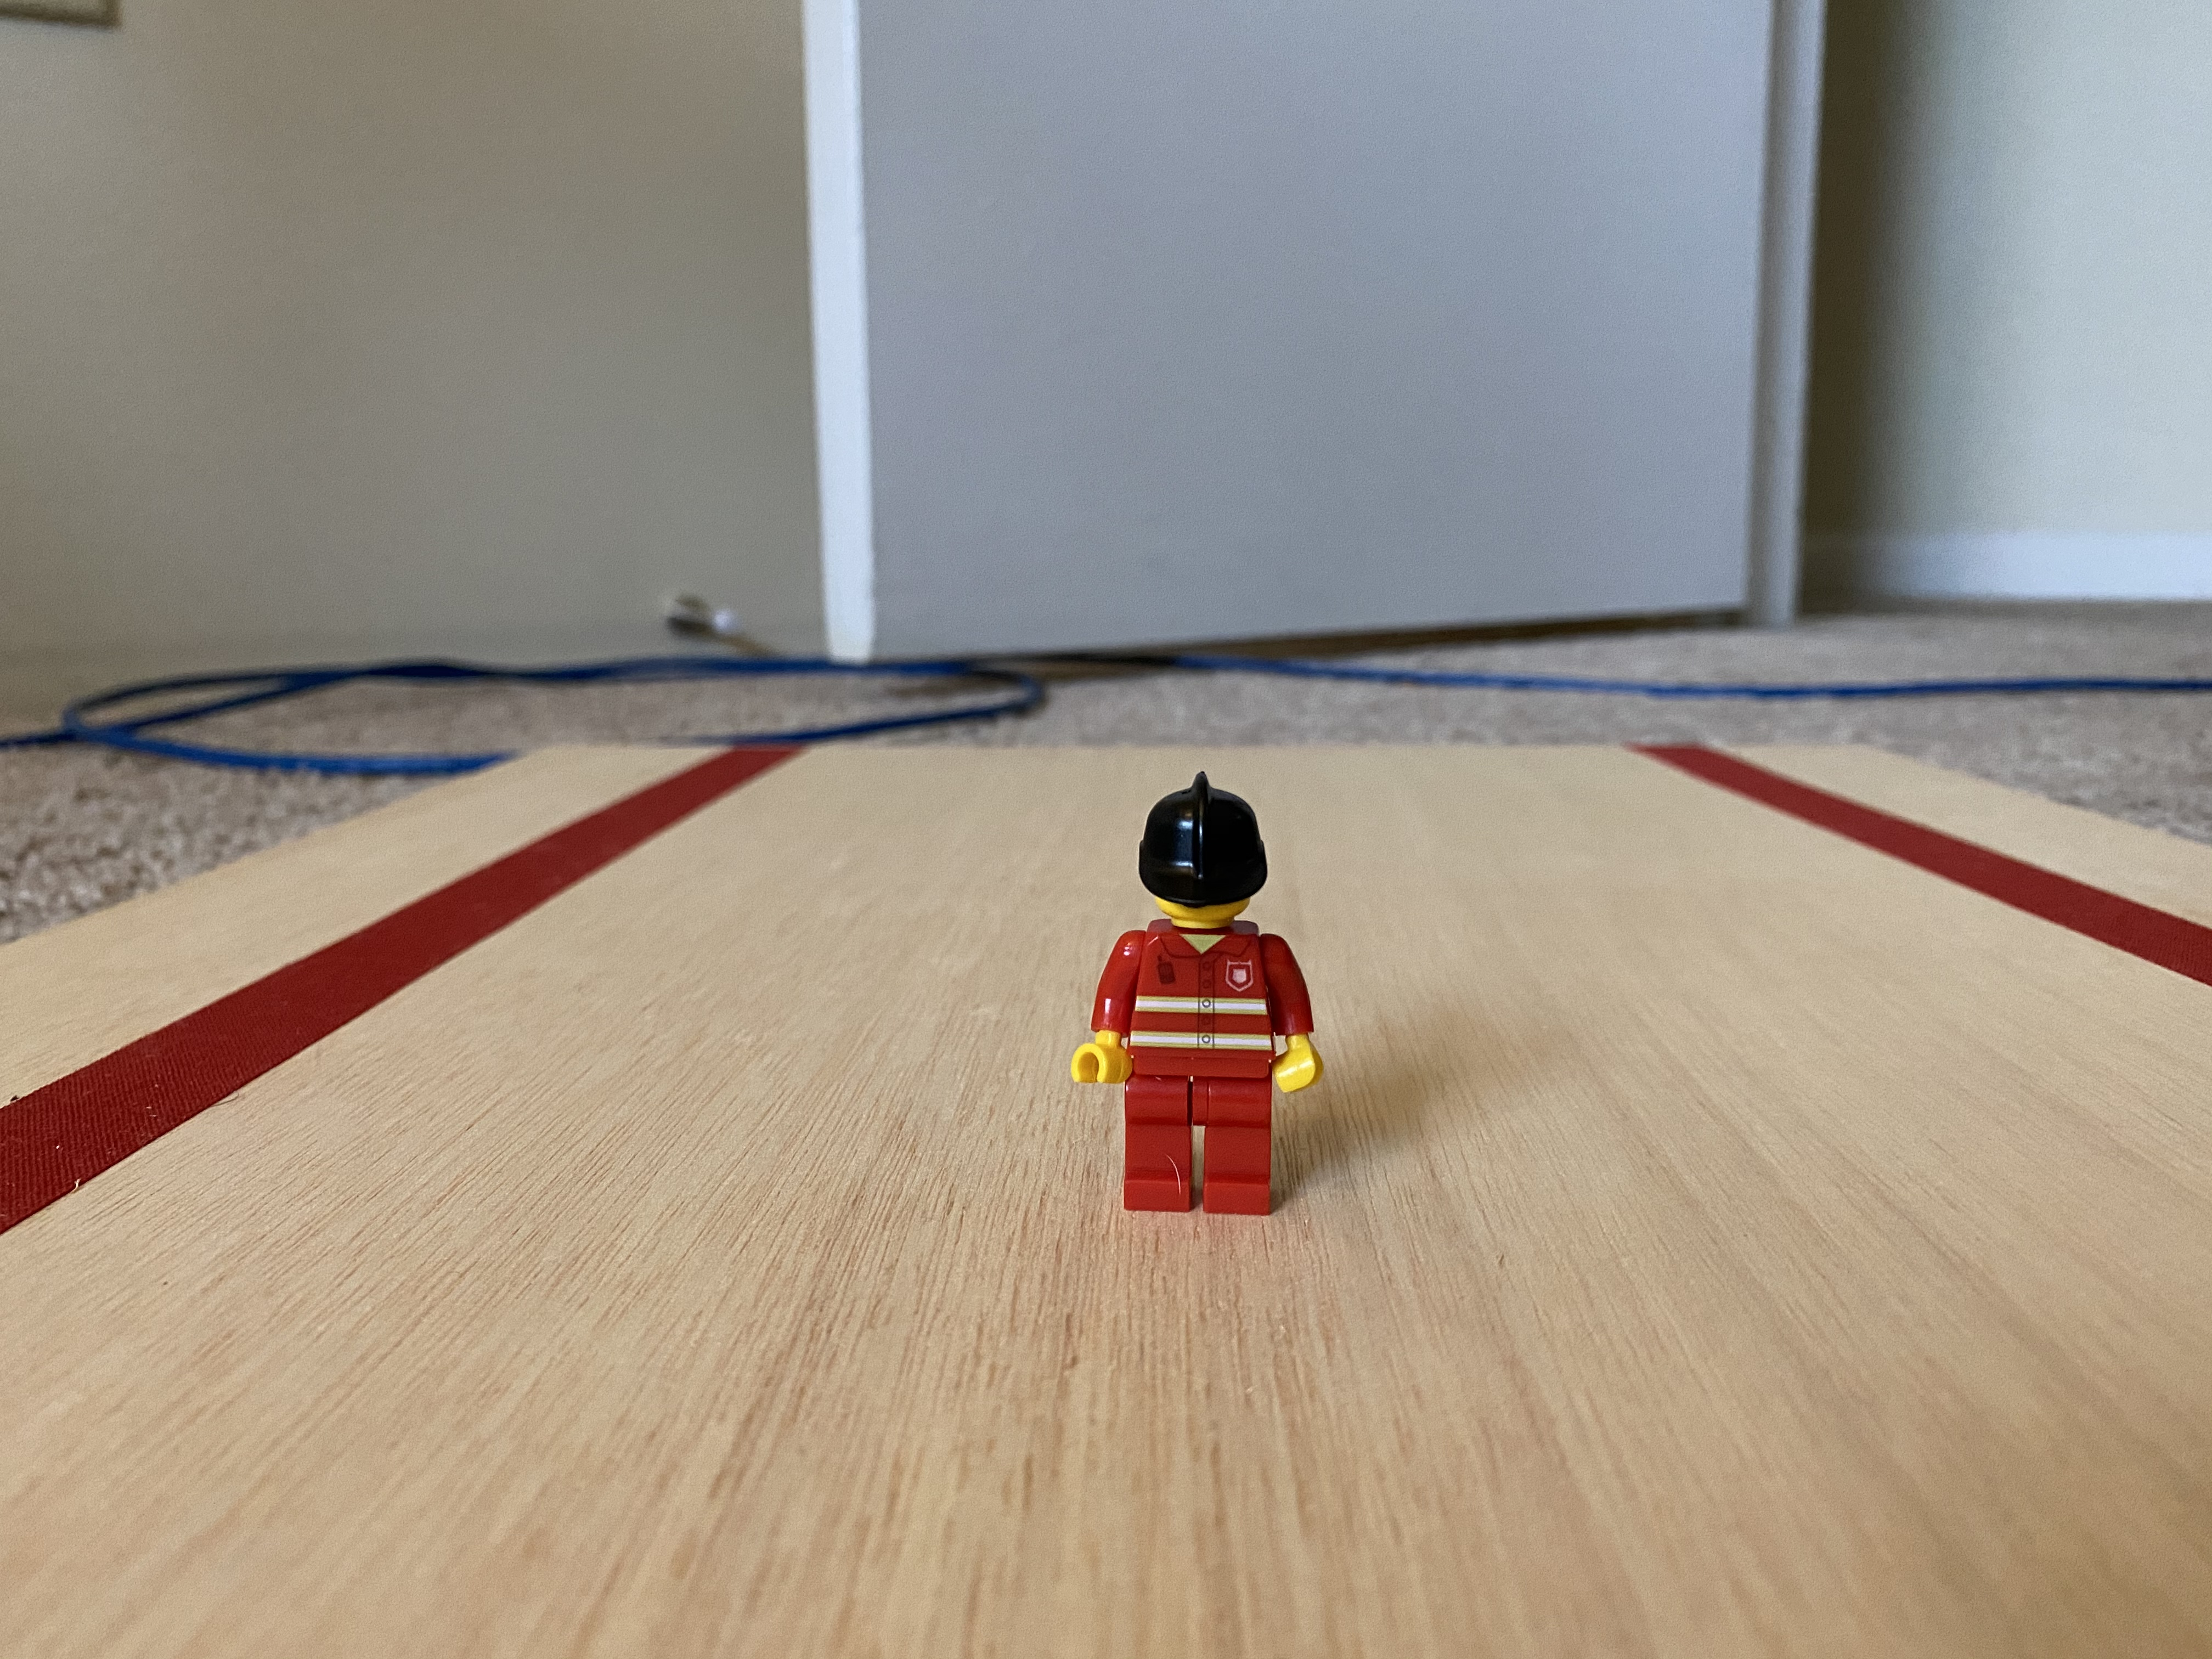Person: (1060, 747, 1380, 1250)
